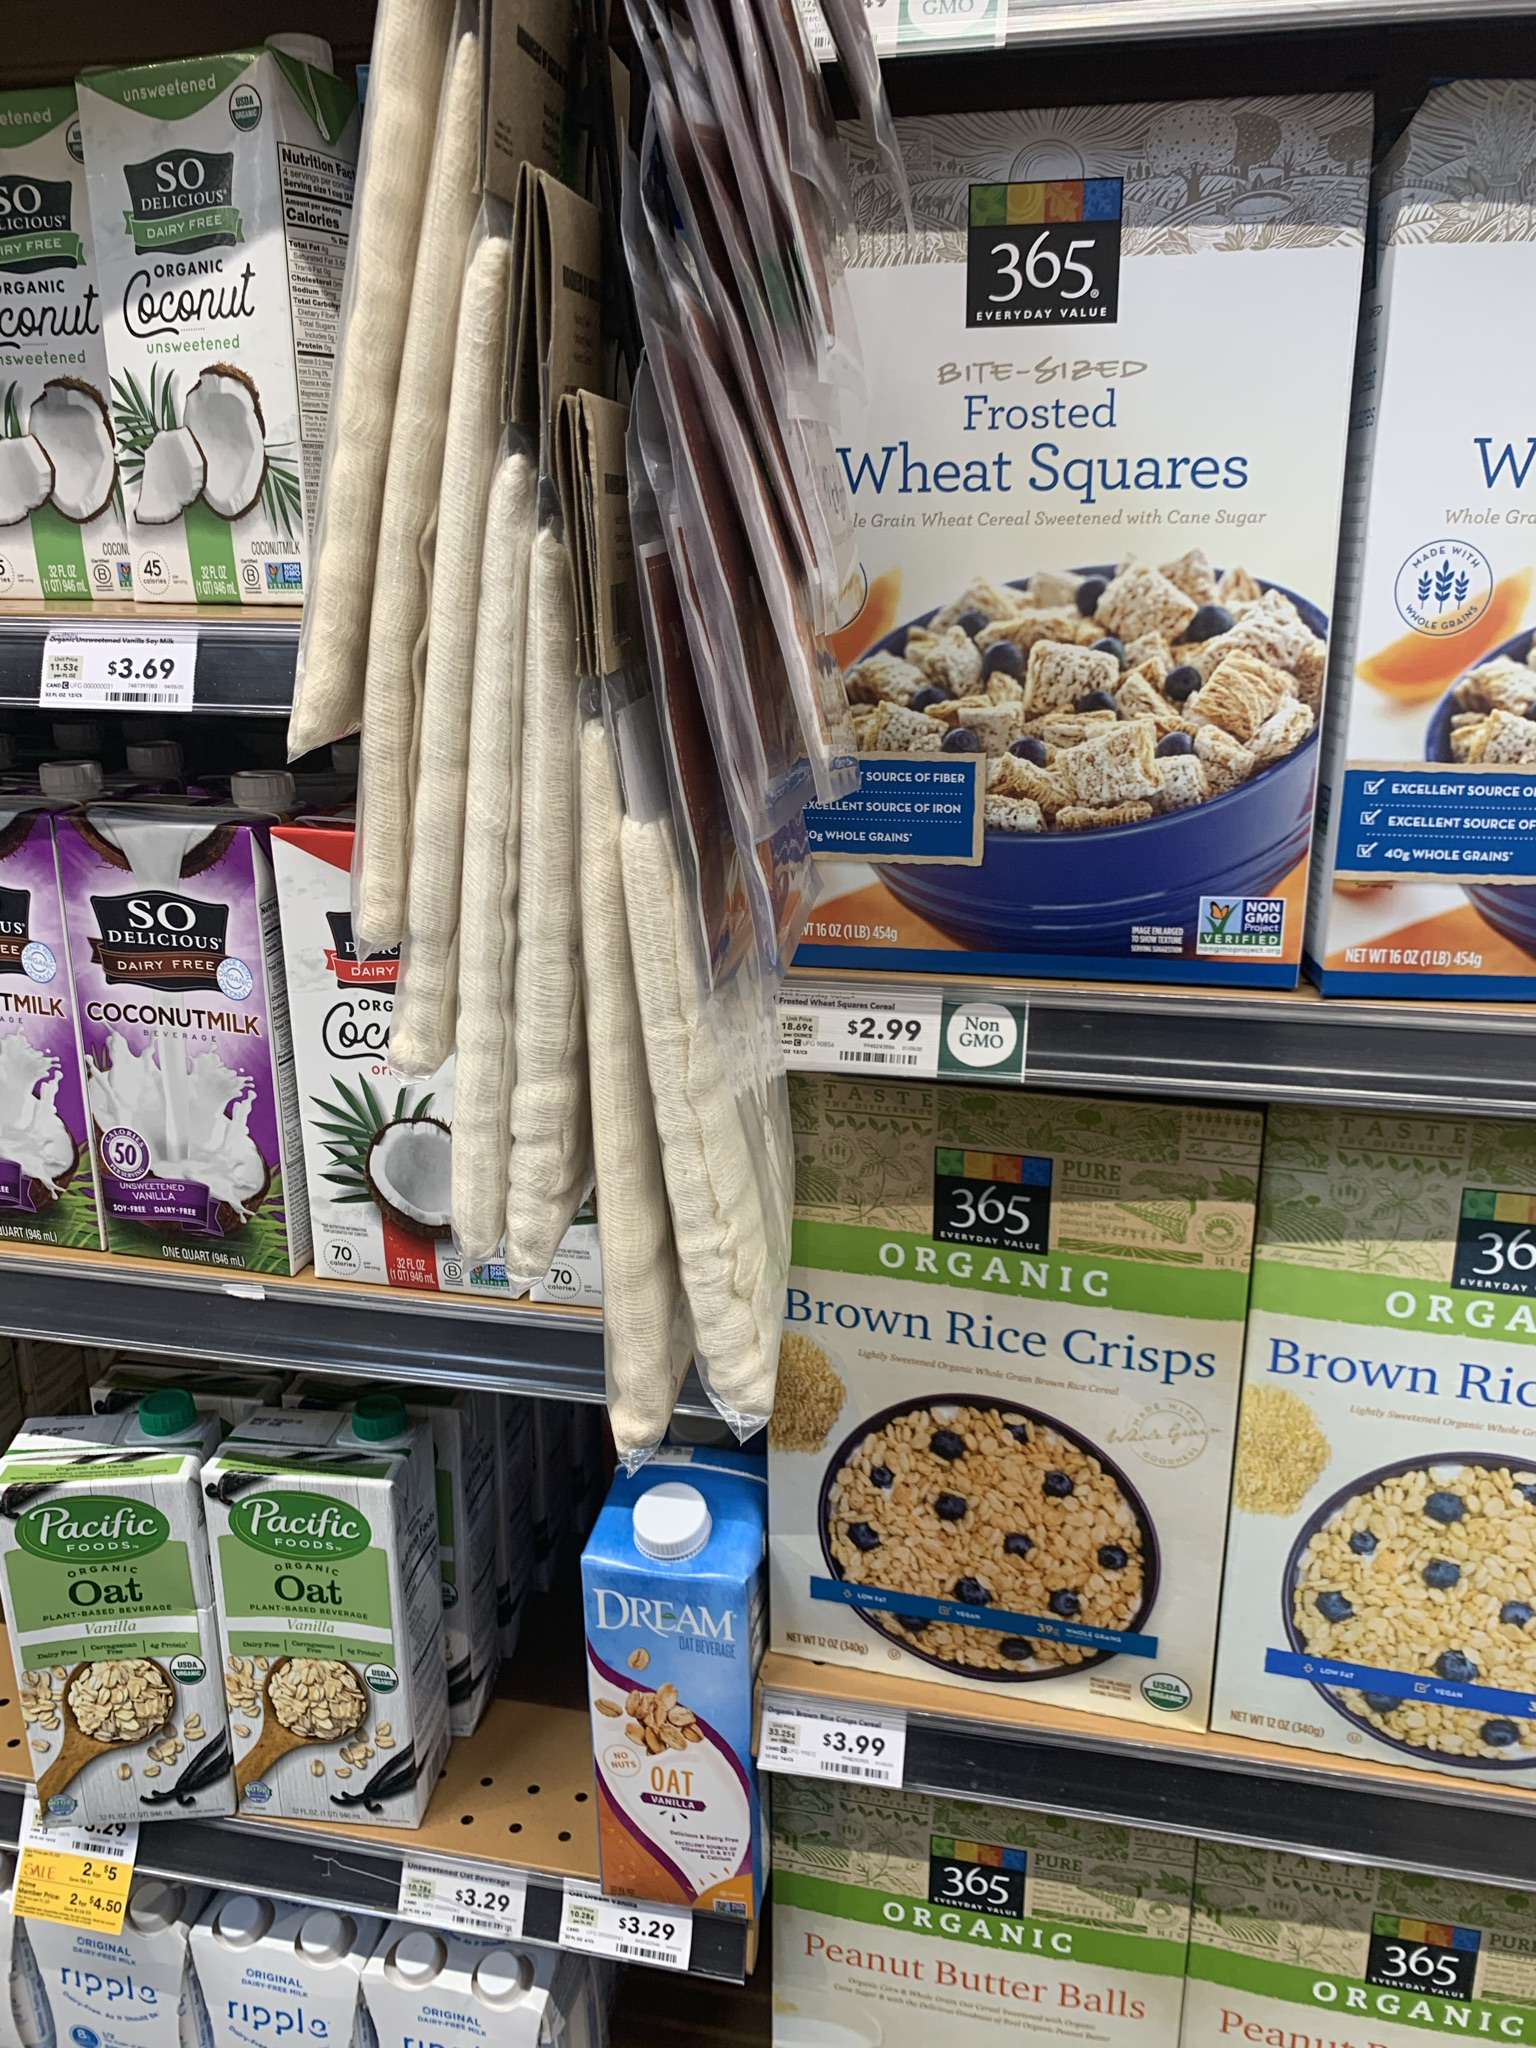cereal: (771, 113, 1405, 980), (736, 1243, 1271, 1672), (1262, 1243, 1536, 1759)
